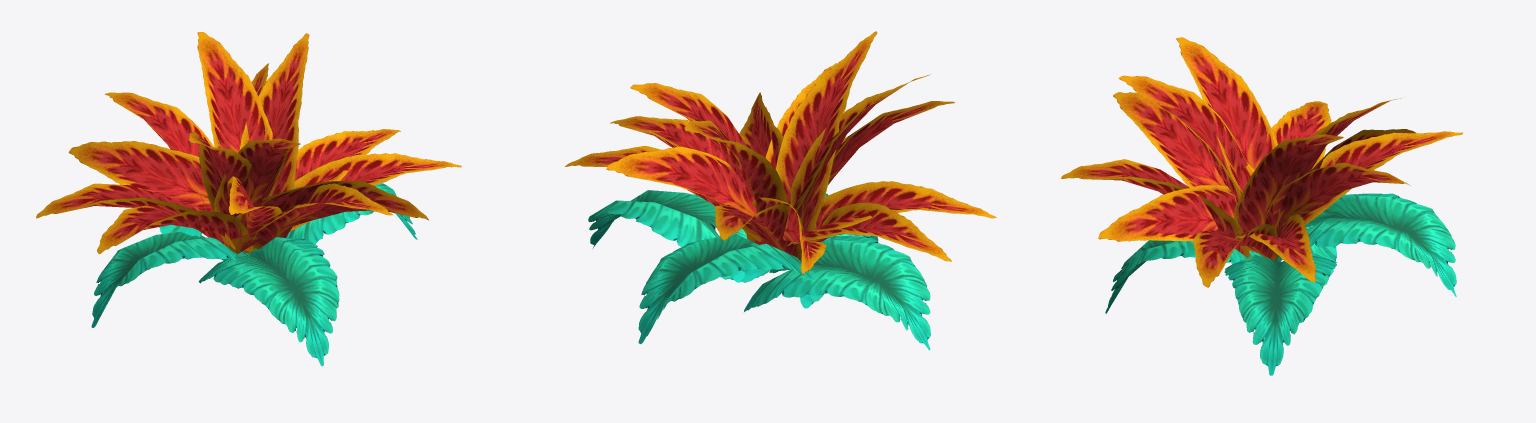
The model's file is OrangeBush_02.fbx.
3 views of the same model, side by side, from view 1: azimuth 30°, elevation 25°; view 2: azimuth 150°, elevation 25°; view 3: azimuth 270°, elevation 25° (orthographic). The views are drawn at different scales.
Visible parts, largest first — view 1: ArrowLeaf002; view 2: ArrowLeaf002; view 3: ArrowLeaf002.
Part boxes in pixels (x1,y1,x2,y2): ArrowLeaf002: (36, 32, 461, 366); ArrowLeaf002: (565, 31, 996, 350); ArrowLeaf002: (1061, 37, 1463, 375).
Size of the model in its own units: 21.16 by 13.3 by 21.51.
